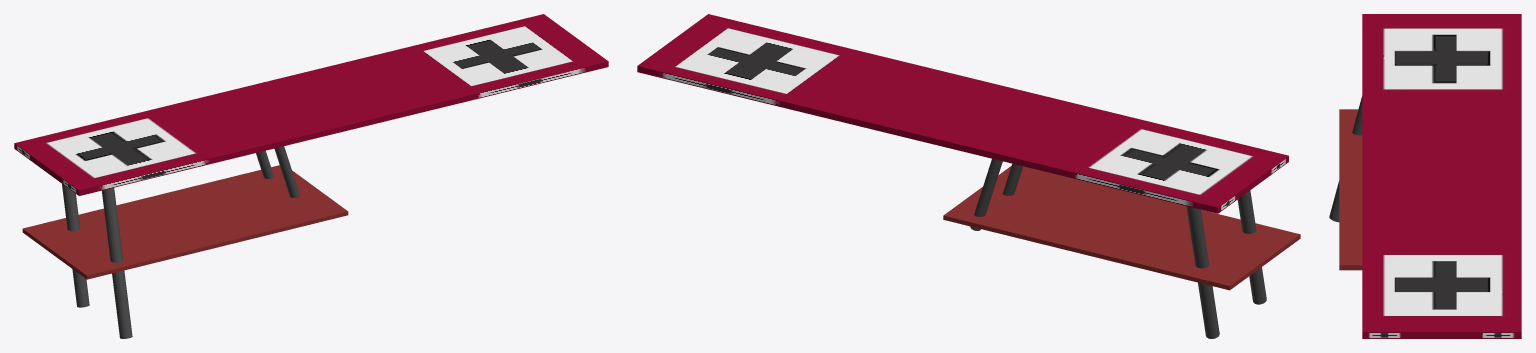
The model's file is debris31.fbx.
3 renders of one model, left to right at view 1: azimuth 30°, elevation 25°; view 2: azimuth 150°, elevation 25°; view 3: azimuth 270°, elevation 25°, orthographic. The views are drawn at different scales.
Visible parts, largest first — view 1: Box06, Box07, Cylinder20, Cylinder21, Cylinder16; view 2: Box06, Box07, Cylinder21, Cylinder20, Cylinder17; view 3: Box06, Box07, Cylinder20.
Part boxes in pixels (x1,y1,x2,y2): Box06: (14, 14, 608, 195); Box07: (22, 165, 348, 279); Cylinder20: (102, 187, 132, 338); Cylinder21: (62, 184, 89, 307); Cylinder16: (274, 146, 299, 197); Box06: (637, 14, 1288, 213); Box07: (943, 166, 1300, 290); Cylinder21: (1186, 206, 1219, 338); Cylinder20: (1237, 190, 1266, 304); Cylinder17: (970, 158, 1002, 230); Box06: (1362, 14, 1521, 338); Box07: (1339, 109, 1362, 270); Cylinder20: (1329, 96, 1362, 222).
Bounding box in the file's own units: 1402 × 378 × 357.
Materials: 3 (1 with a texture image).
